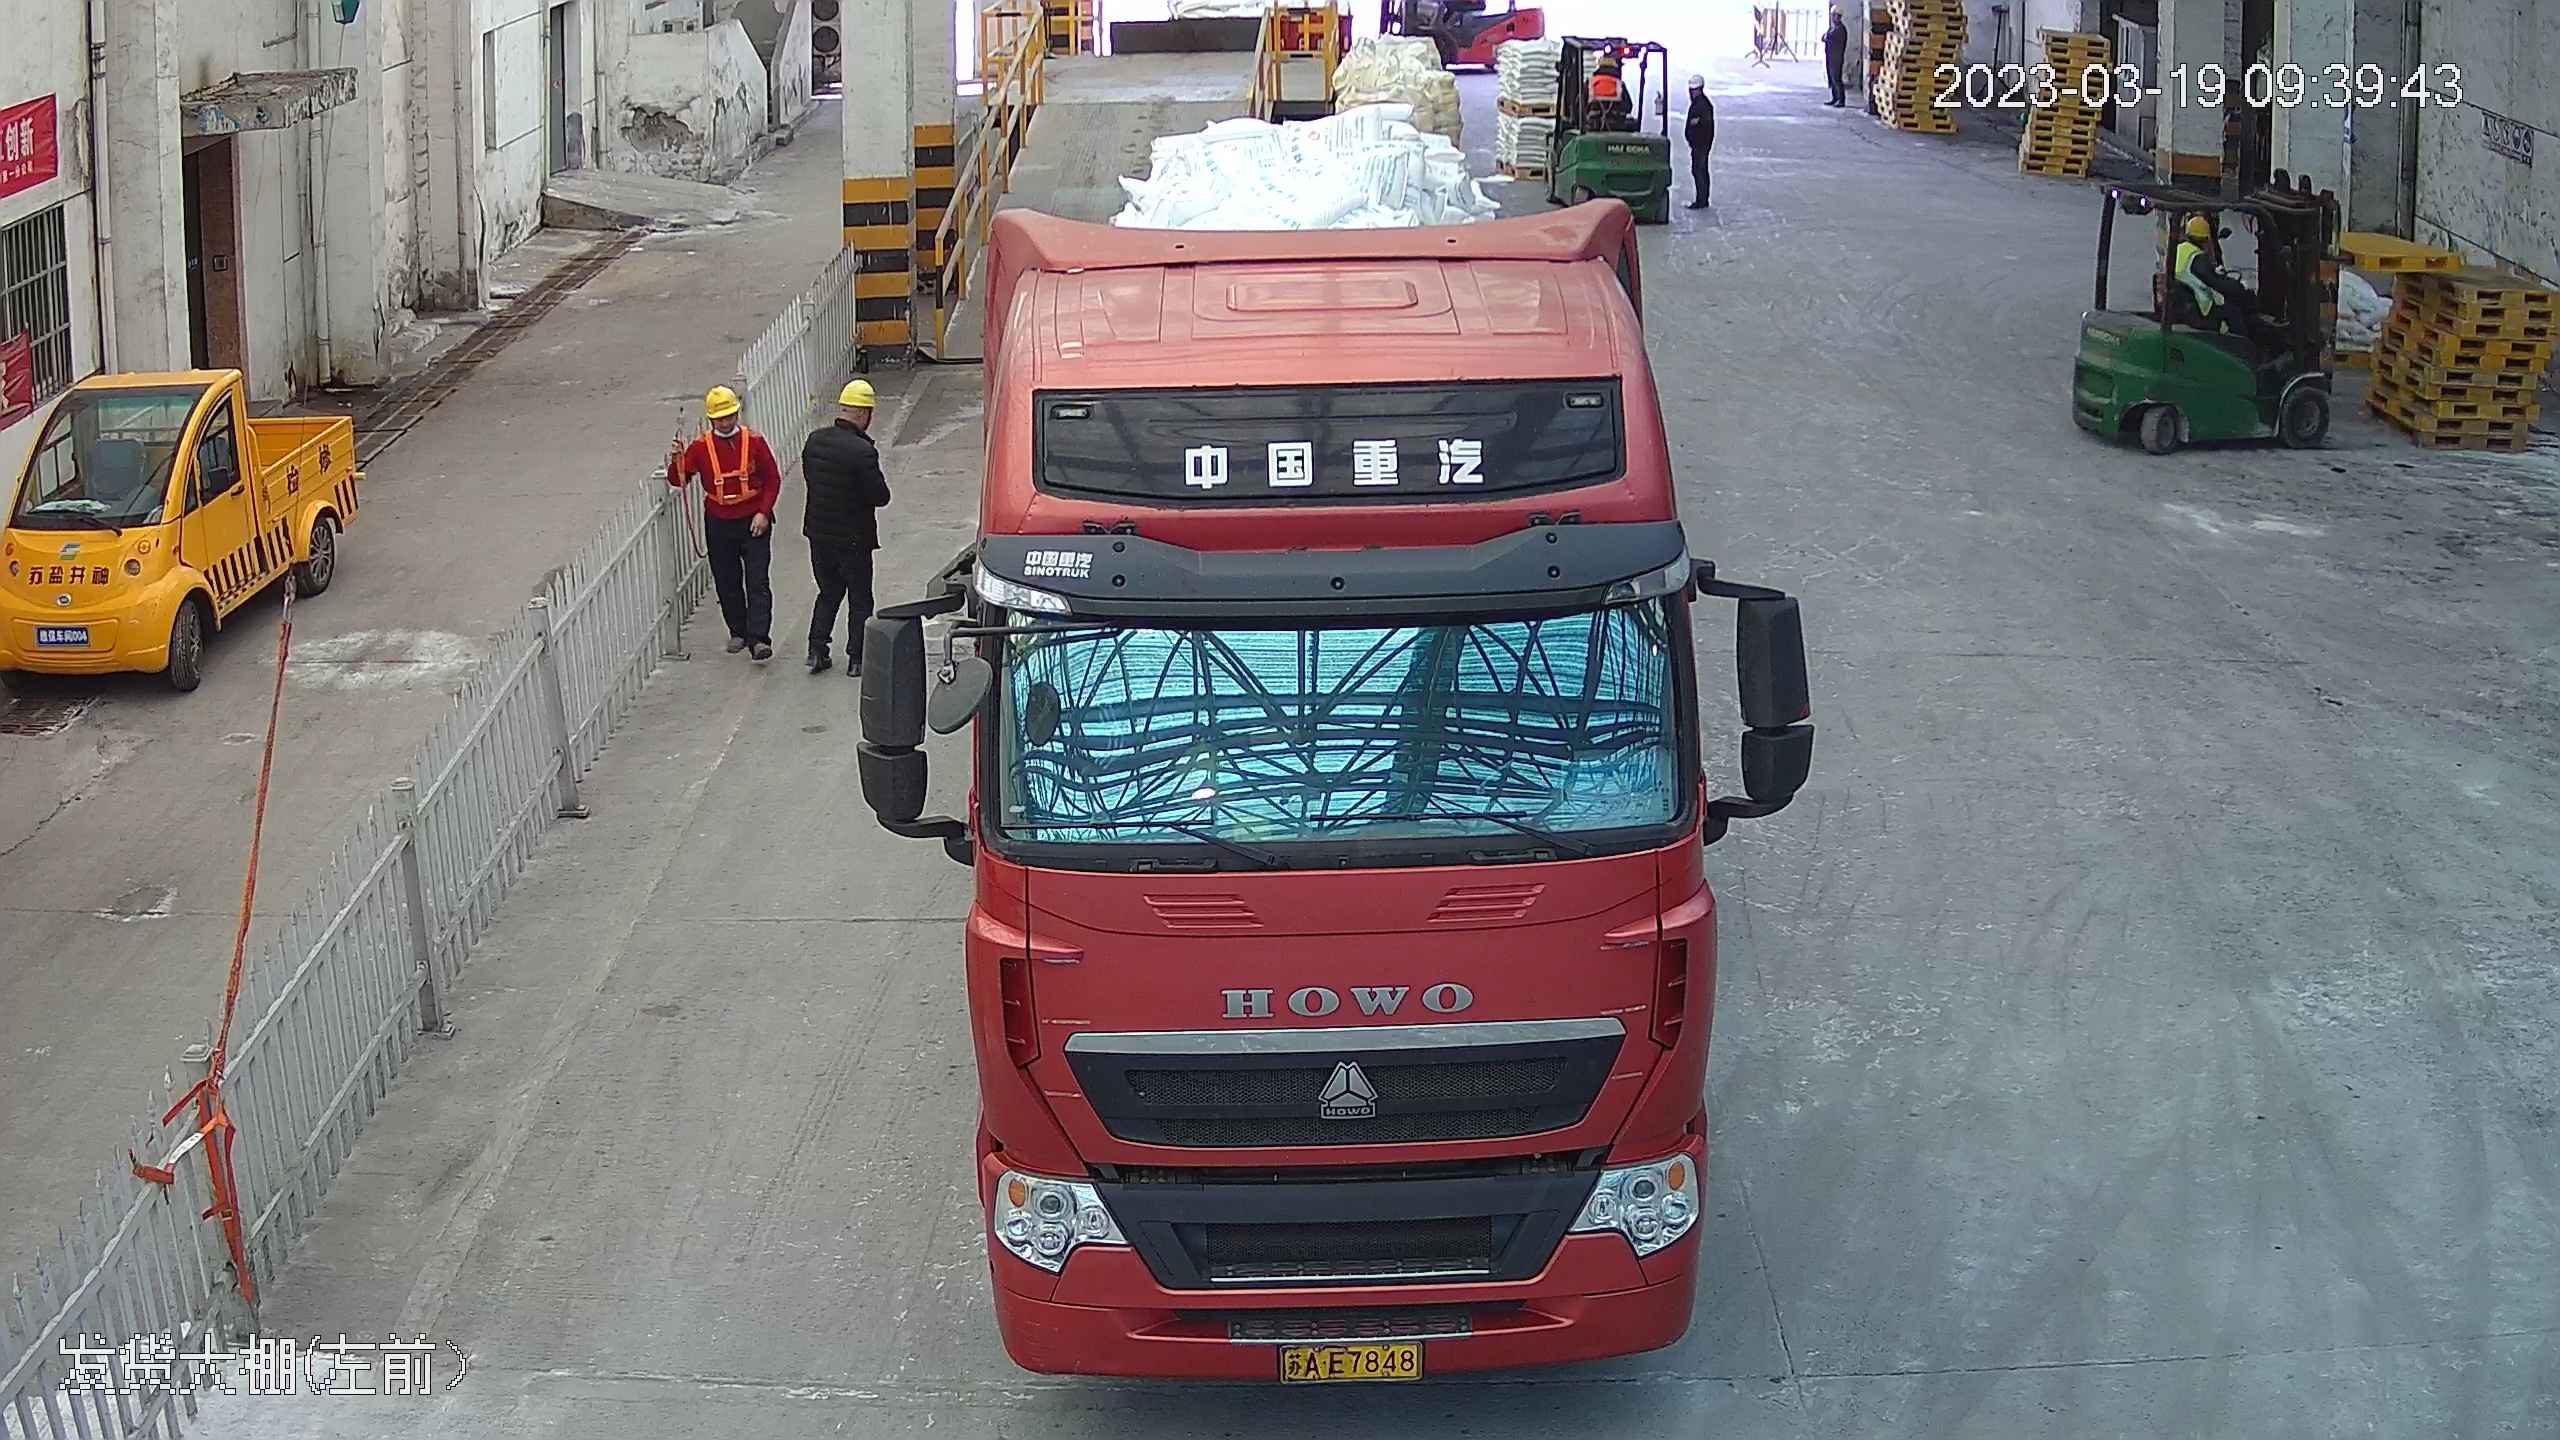belt: (704, 446, 768, 502)
head: (683, 383, 774, 467), (804, 378, 884, 467), (2171, 213, 2222, 274), (1584, 53, 1626, 104), (1684, 71, 1715, 115), (1825, 4, 1848, 44)
helmet: (834, 378, 880, 410), (702, 382, 742, 416), (2184, 212, 2215, 236), (1595, 54, 1616, 69), (1687, 73, 1704, 90), (1828, 3, 1845, 17)
people: (665, 379, 783, 667), (793, 374, 895, 669), (1677, 67, 1720, 216), (1820, 2, 1852, 112)
truck: (940, 24, 1751, 1422)
